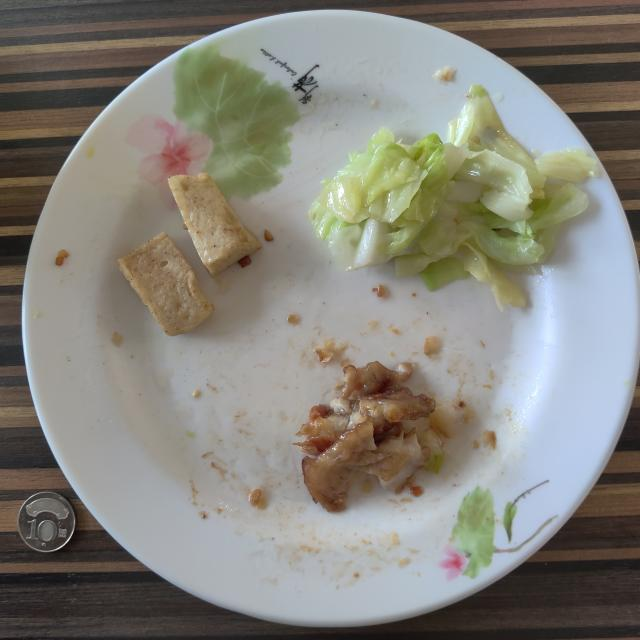Kabayaki sea bream fillet: (296, 361, 444, 511)
cabbage: (308, 85, 598, 310)
coin: (18, 491, 76, 552)
creamy tofu -without sauce-: (118, 232, 214, 336), (169, 172, 262, 276)
